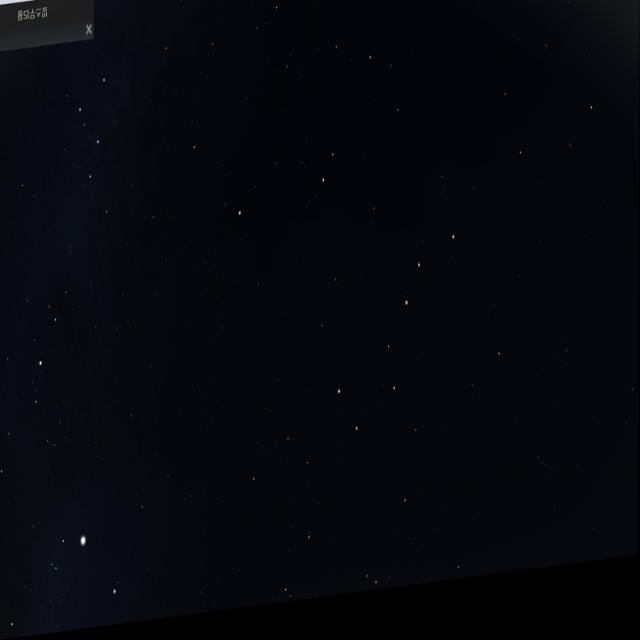cassiopeia: (70, 68, 128, 224)
ursa_major: (332, 227, 464, 456)
